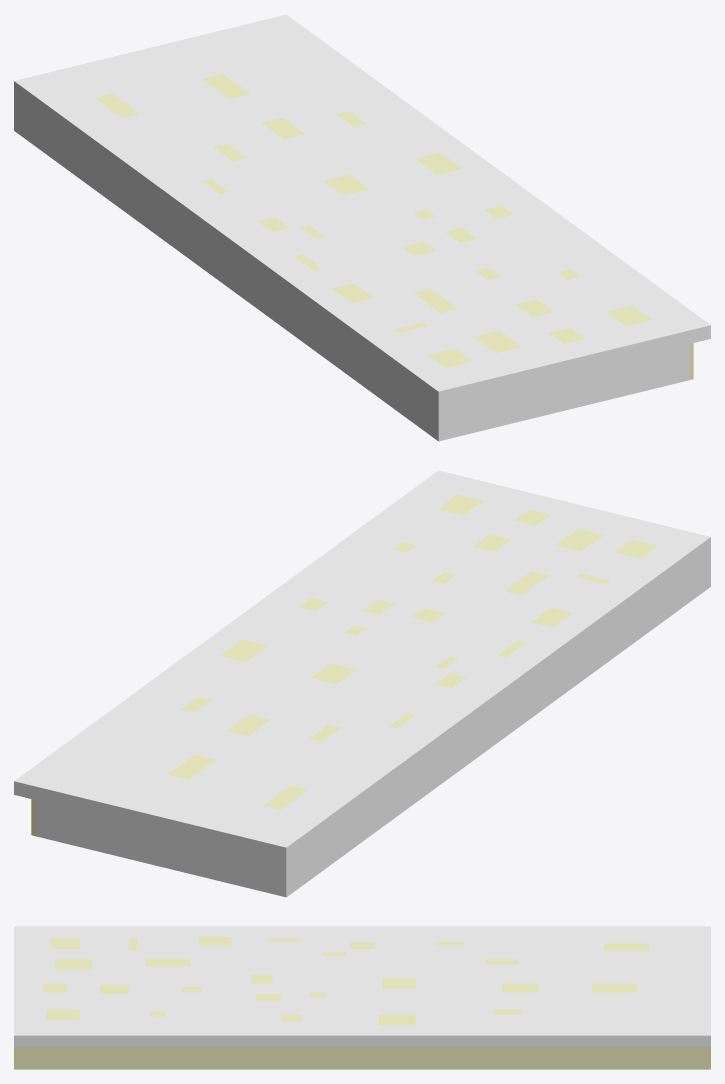
File: road3.obj
The picture shows the model from 3 angles, top to bottom: view 1: azimuth 30°, elevation 25°; view 2: azimuth 150°, elevation 25°; view 3: azimuth 270°, elevation 25°; orthographic projection. The views are drawn at different scales.
Size of the model in its own units: 6.3 by 1.1 by 17.
Materials: 1 (1 with a texture image).
